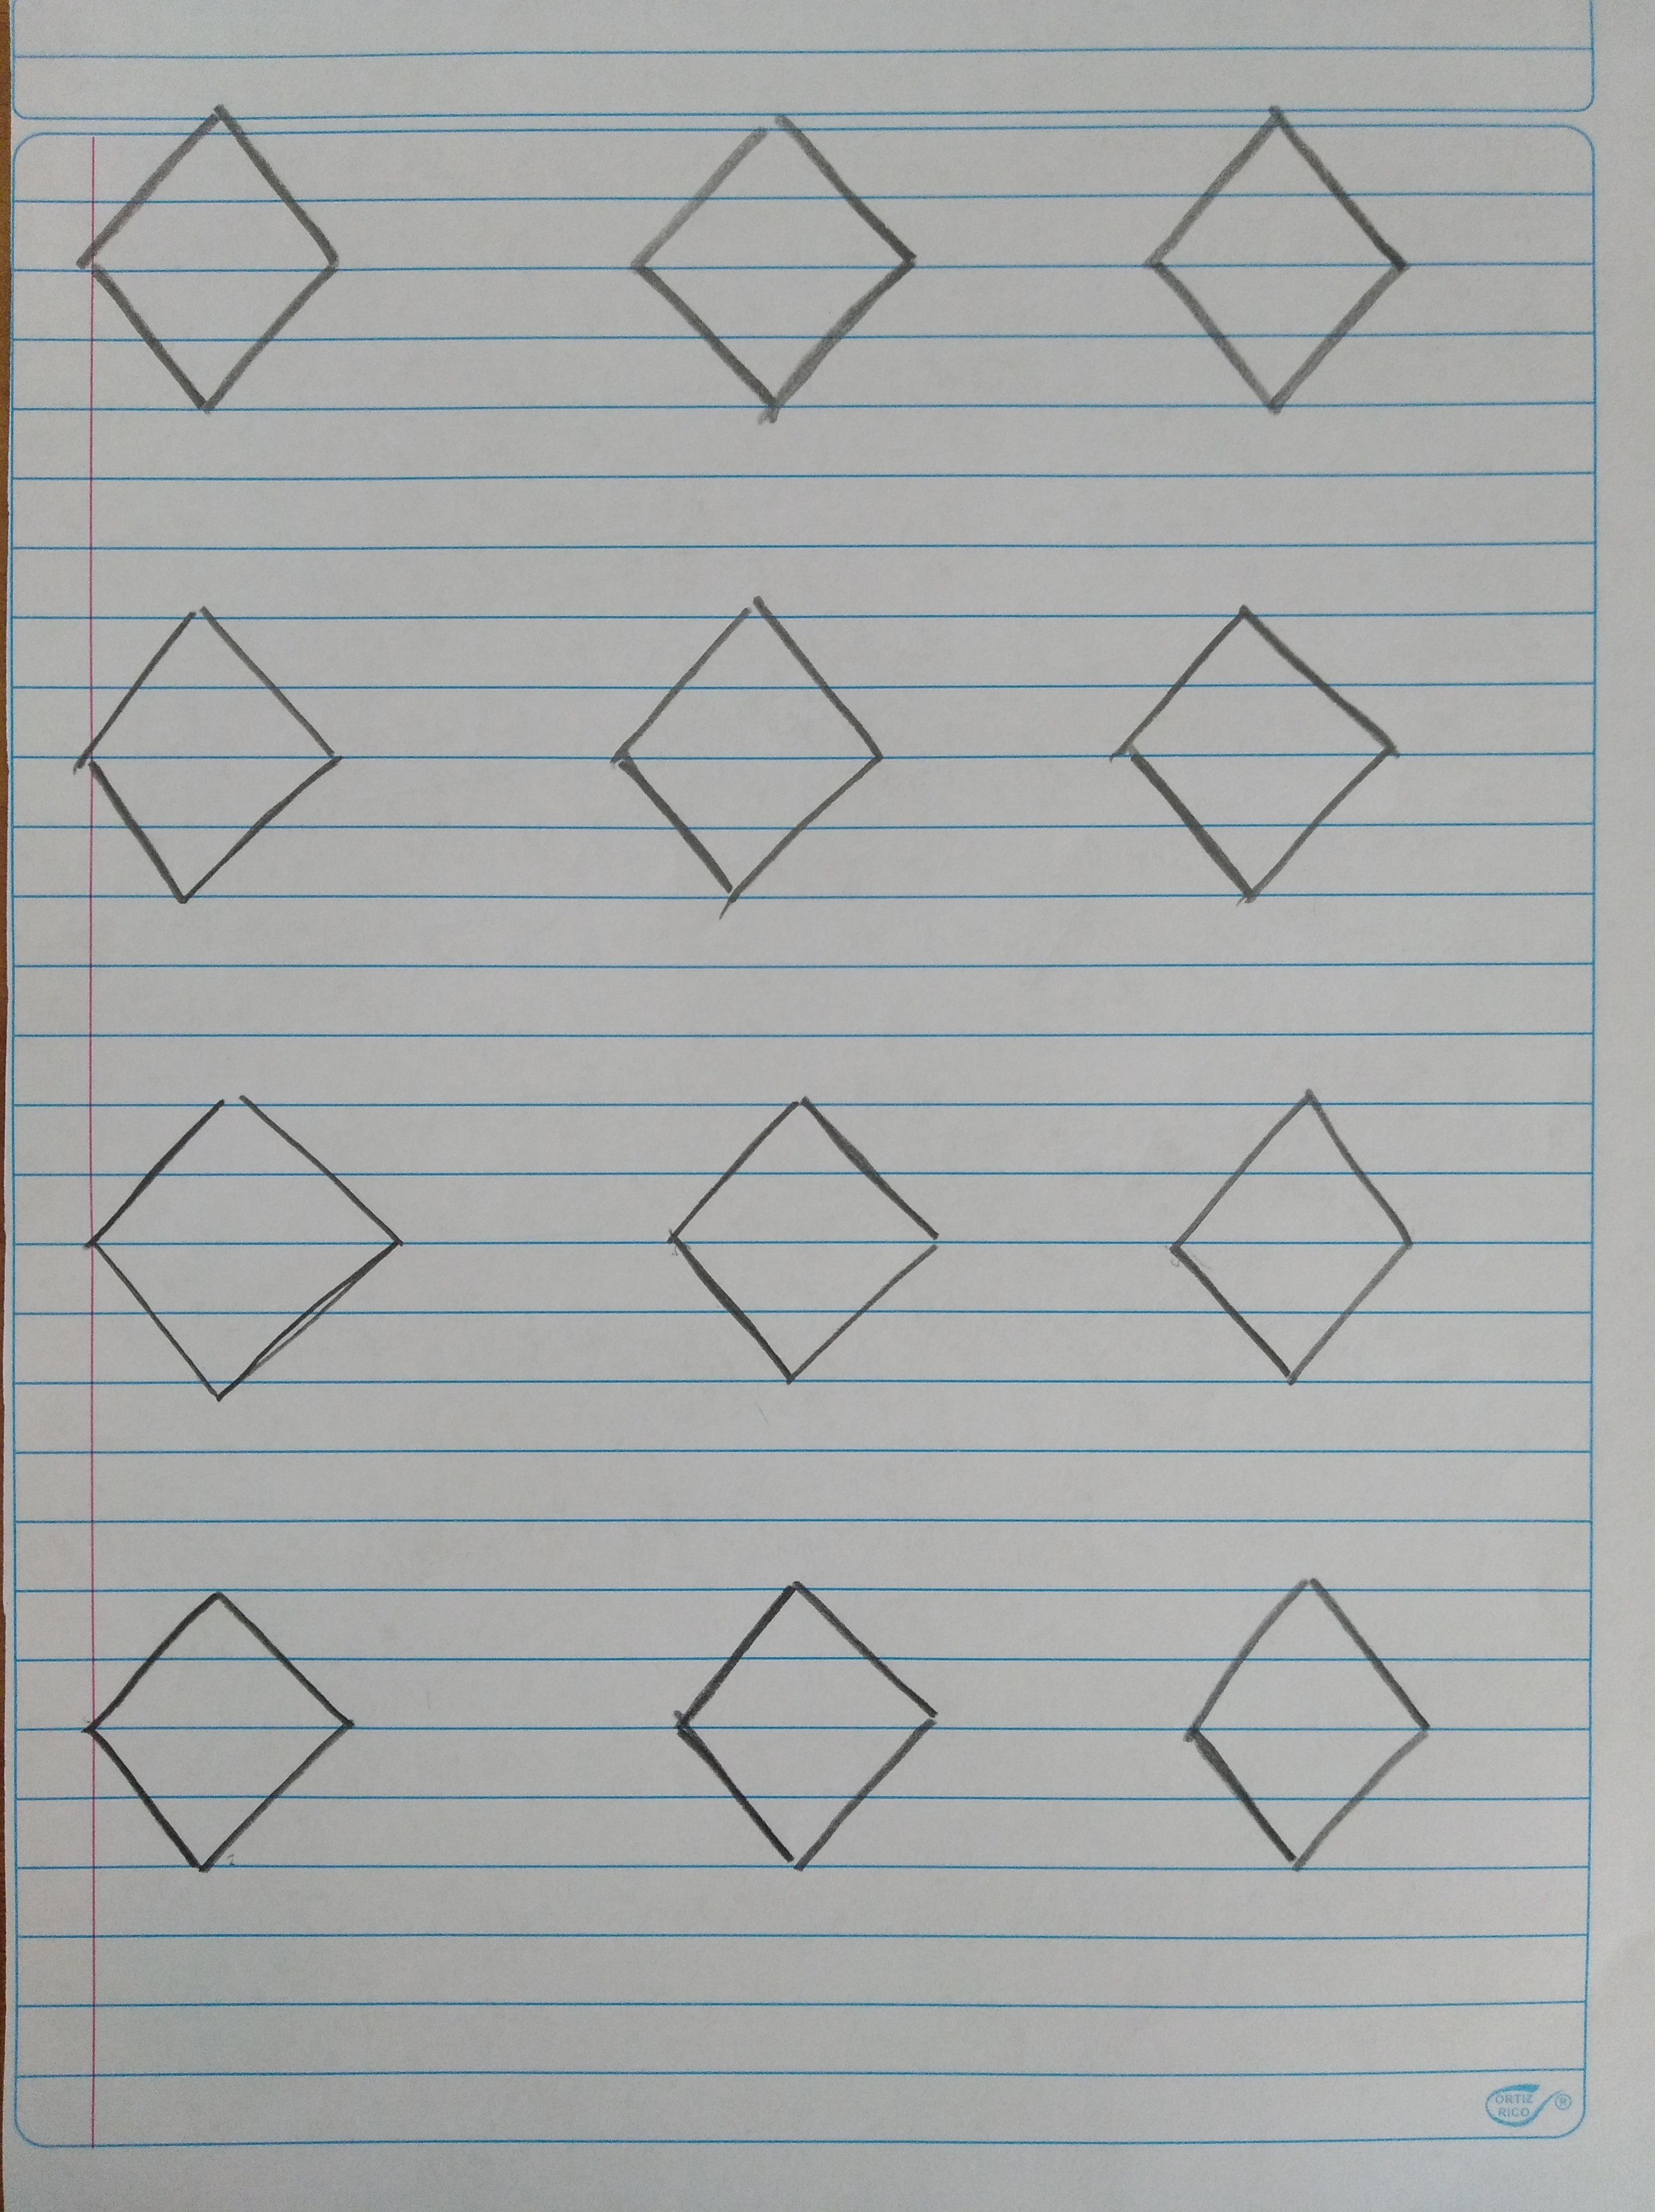decision: (565, 73, 987, 454), (33, 1048, 442, 1432), (558, 561, 928, 950), (1066, 565, 1450, 938), (1093, 80, 1443, 448), (633, 1051, 980, 1418), (629, 1545, 974, 1908), (47, 1545, 382, 1915), (40, 580, 386, 938), (1137, 1541, 1478, 1904), (57, 80, 372, 438), (1147, 1062, 1450, 1418)
